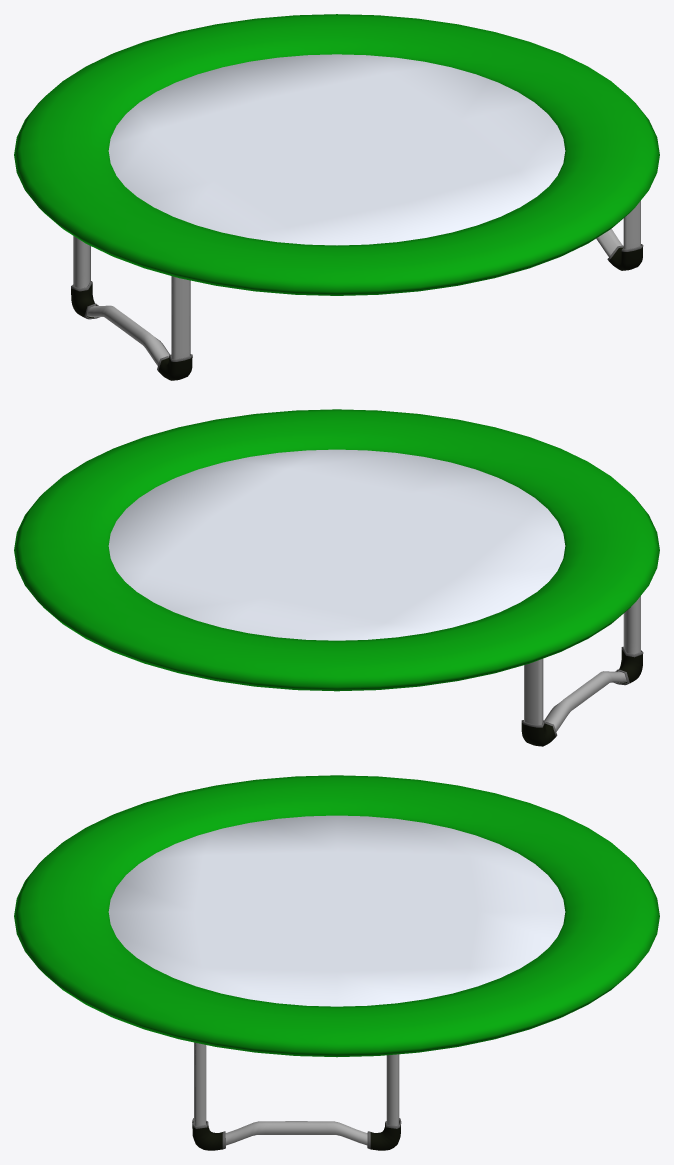
File: trampoline_green.glb
3 renders of one model, top to bottom at view 1: azimuth 30°, elevation 25°; view 2: azimuth 150°, elevation 25°; view 3: azimuth 270°, elevation 25°, orthographic.
Parts seen in each view (by area): view 1: Circle.003, BezierCurve.003_Mesh.002, BezierCurve.003_Mesh.003; view 2: Circle.003, BezierCurve.003_Mesh.002, BezierCurve.003_Mesh.003; view 3: Circle.003, BezierCurve.003_Mesh.002, BezierCurve.003_Mesh.003.
Part boxes in pixels (bbox=[...]): Circle.003: bbox=[14, 14, 659, 295]; BezierCurve.003_Mesh.002: bbox=[73, 201, 640, 365]; BezierCurve.003_Mesh.003: bbox=[71, 244, 643, 380]; Circle.003: bbox=[14, 409, 659, 691]; BezierCurve.003_Mesh.002: bbox=[524, 596, 640, 731]; BezierCurve.003_Mesh.003: bbox=[521, 646, 643, 746]; Circle.003: bbox=[14, 775, 659, 1057]; BezierCurve.003_Mesh.002: bbox=[194, 1042, 399, 1145]; BezierCurve.003_Mesh.003: bbox=[192, 1118, 401, 1150].
Bounding box in the file's own units: 1.71 × 0.3992 × 1.71.
